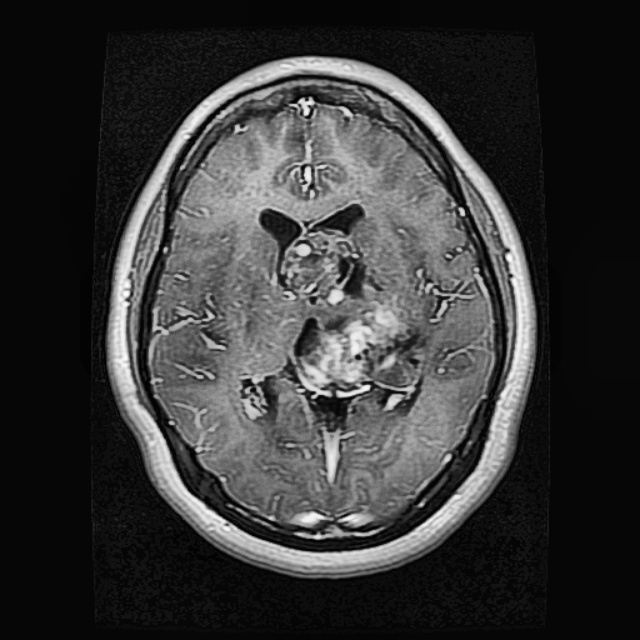Glioma: (290, 290, 409, 399)
